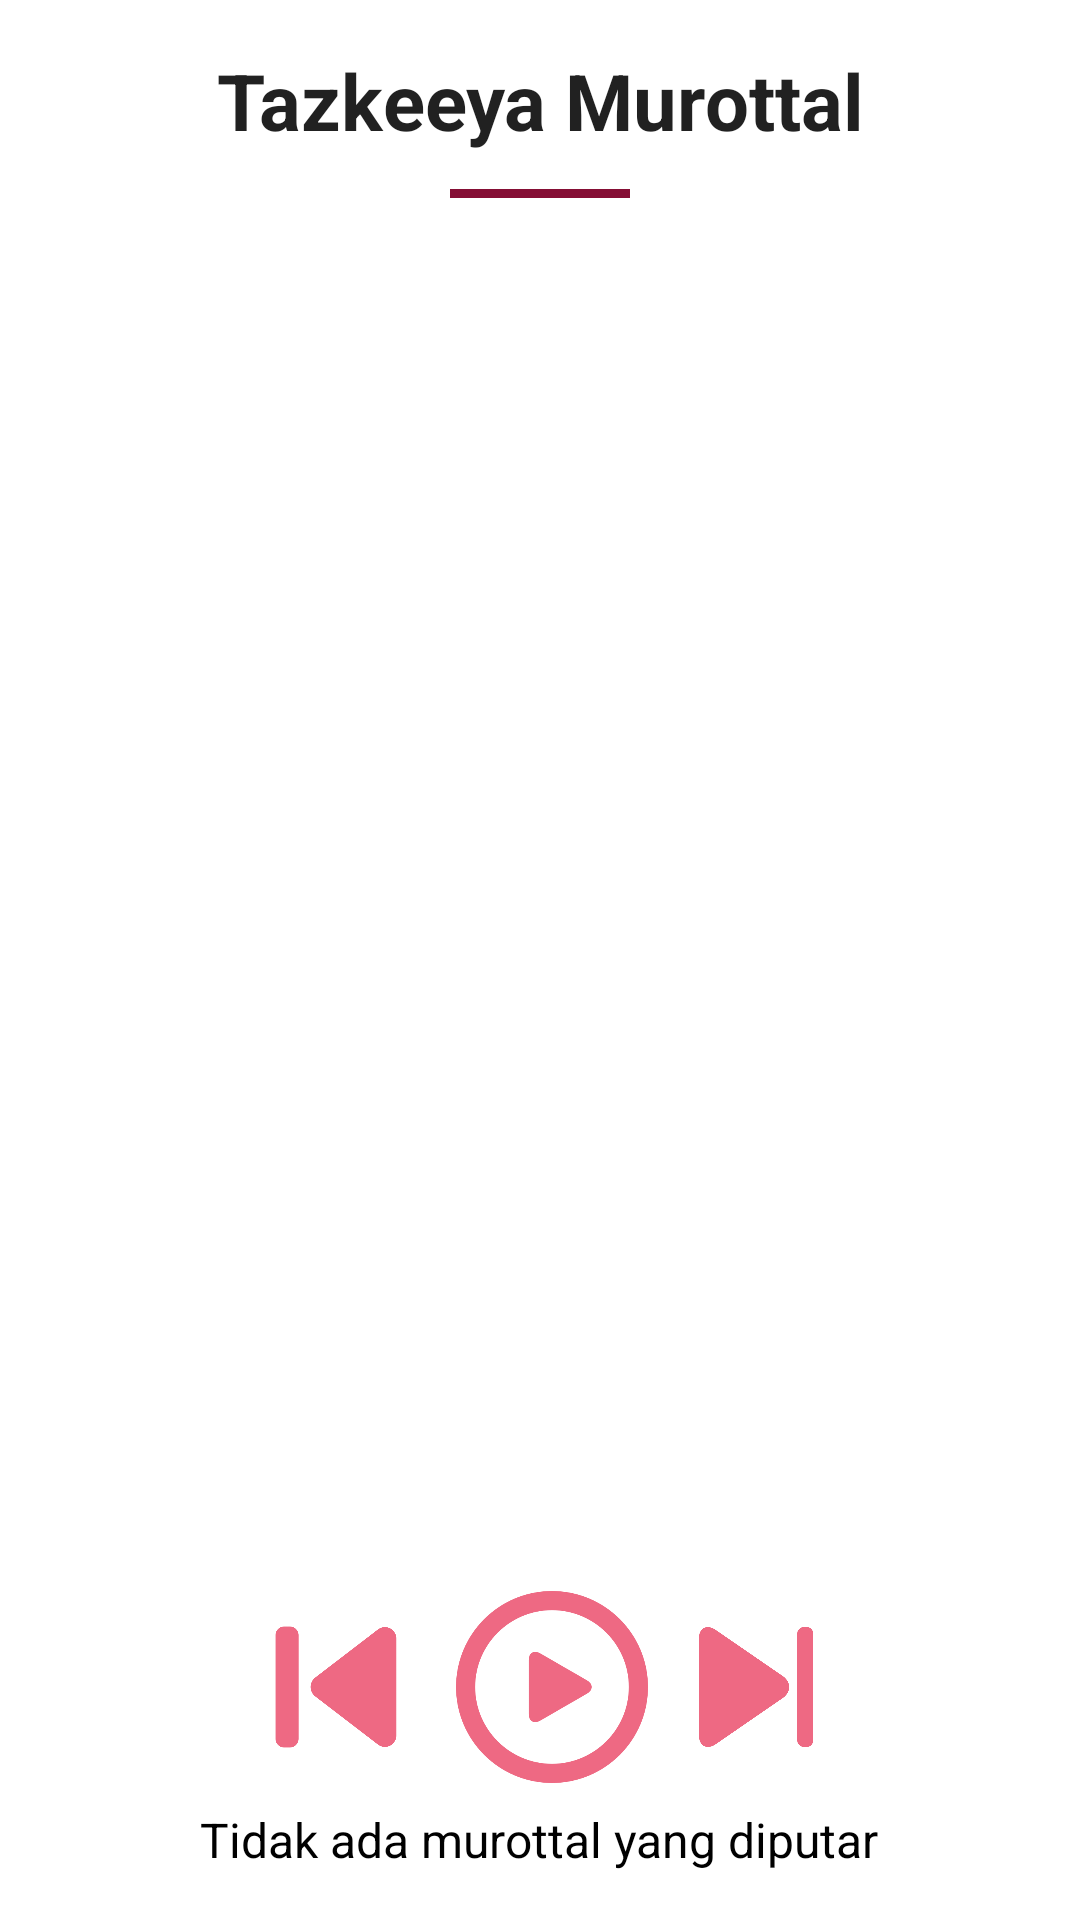

Icons on this 1080*1920 Android screen, each with its box as (x1, y1, x2, y2):
Putar/Jeda: (456, 1591, 648, 1783)
Sebelumnya: (275, 1626, 397, 1748)
Selanjutnya: (699, 1627, 813, 1747)
